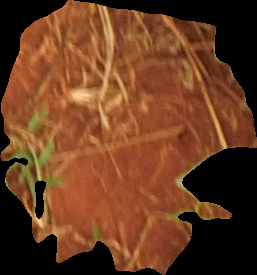soil: (2, 5, 254, 271)
